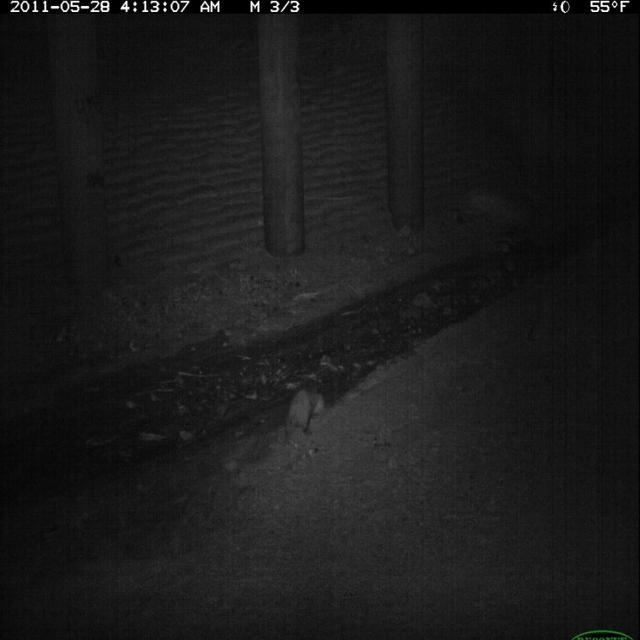opossum: (283, 384, 329, 449)
